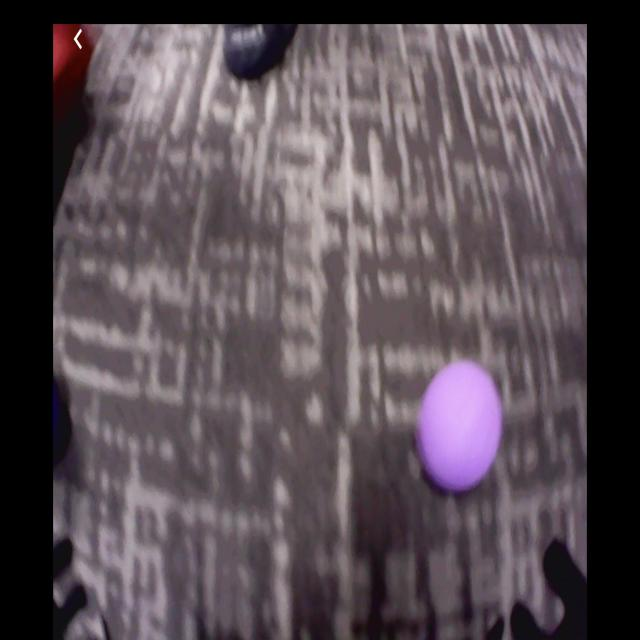ball: (420, 362, 505, 493)
